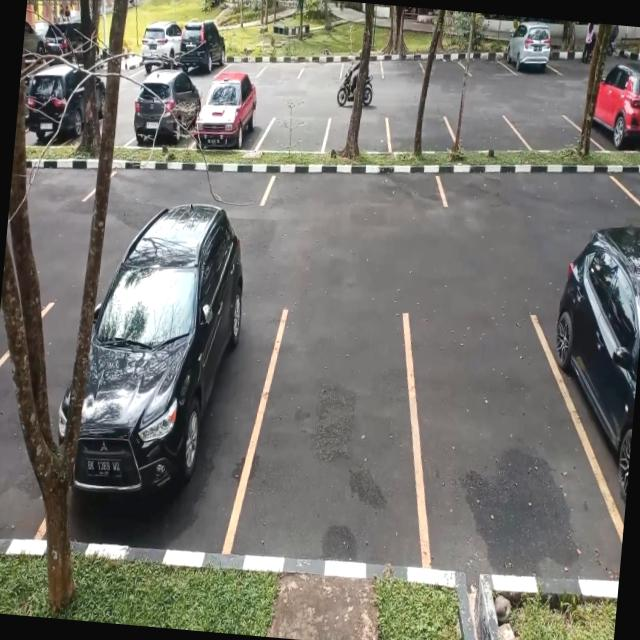car: (66, 245, 264, 553), (526, 231, 640, 548), (20, 74, 102, 151), (132, 73, 199, 152), (193, 80, 264, 154), (588, 70, 640, 153), (504, 29, 554, 78)
free: (244, 302, 434, 568), (394, 309, 574, 581), (441, 160, 638, 224), (263, 160, 446, 224), (383, 112, 452, 158), (452, 112, 522, 156), (519, 112, 587, 156), (262, 114, 332, 156), (326, 116, 392, 156), (298, 54, 344, 85), (423, 51, 467, 83), (381, 50, 426, 80), (465, 48, 508, 79), (262, 54, 304, 82), (623, 160, 640, 209)
